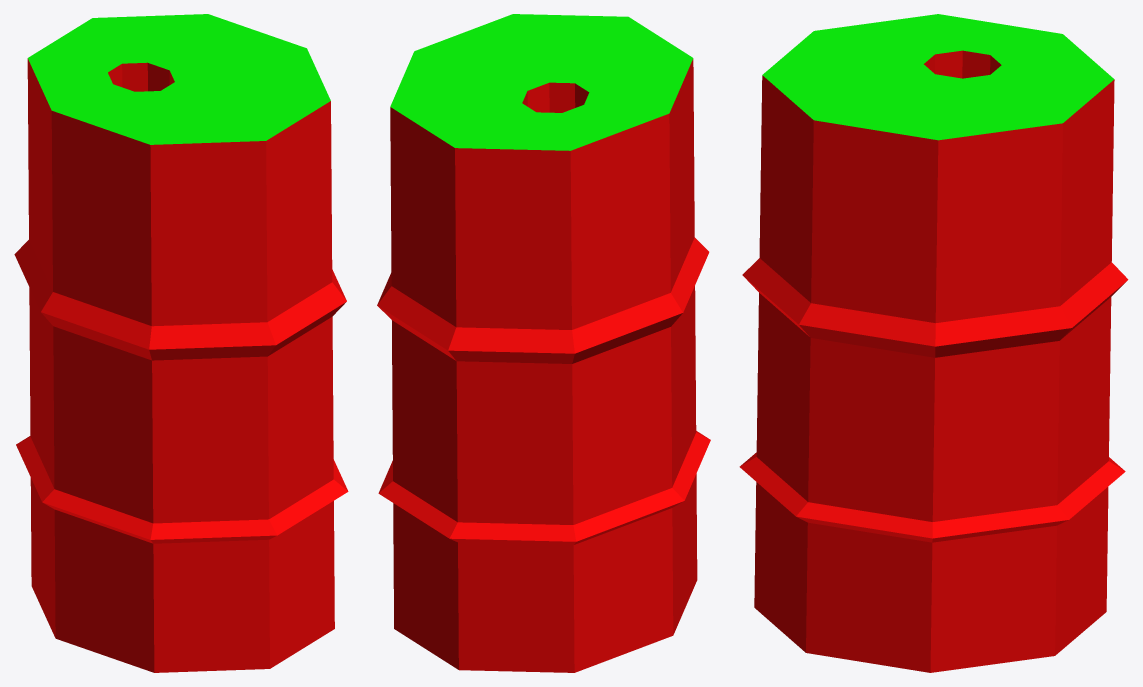
Rendered from Barrell.FBX.
3 renders of one model, left to right at view 1: azimuth 30°, elevation 25°; view 2: azimuth 150°, elevation 25°; view 3: azimuth 270°, elevation 25°, orthographic.
Visible parts, largest first — view 1: Barrell; view 2: Barrell; view 3: Barrell.
Part boxes in pixels (x1,y1,x2,y2): Barrell: (14,14,348,672); Barrell: (377,14,710,672); Barrell: (739,14,1128,672).
Size of the model in its own units: 58.35 by 105 by 69.26.
